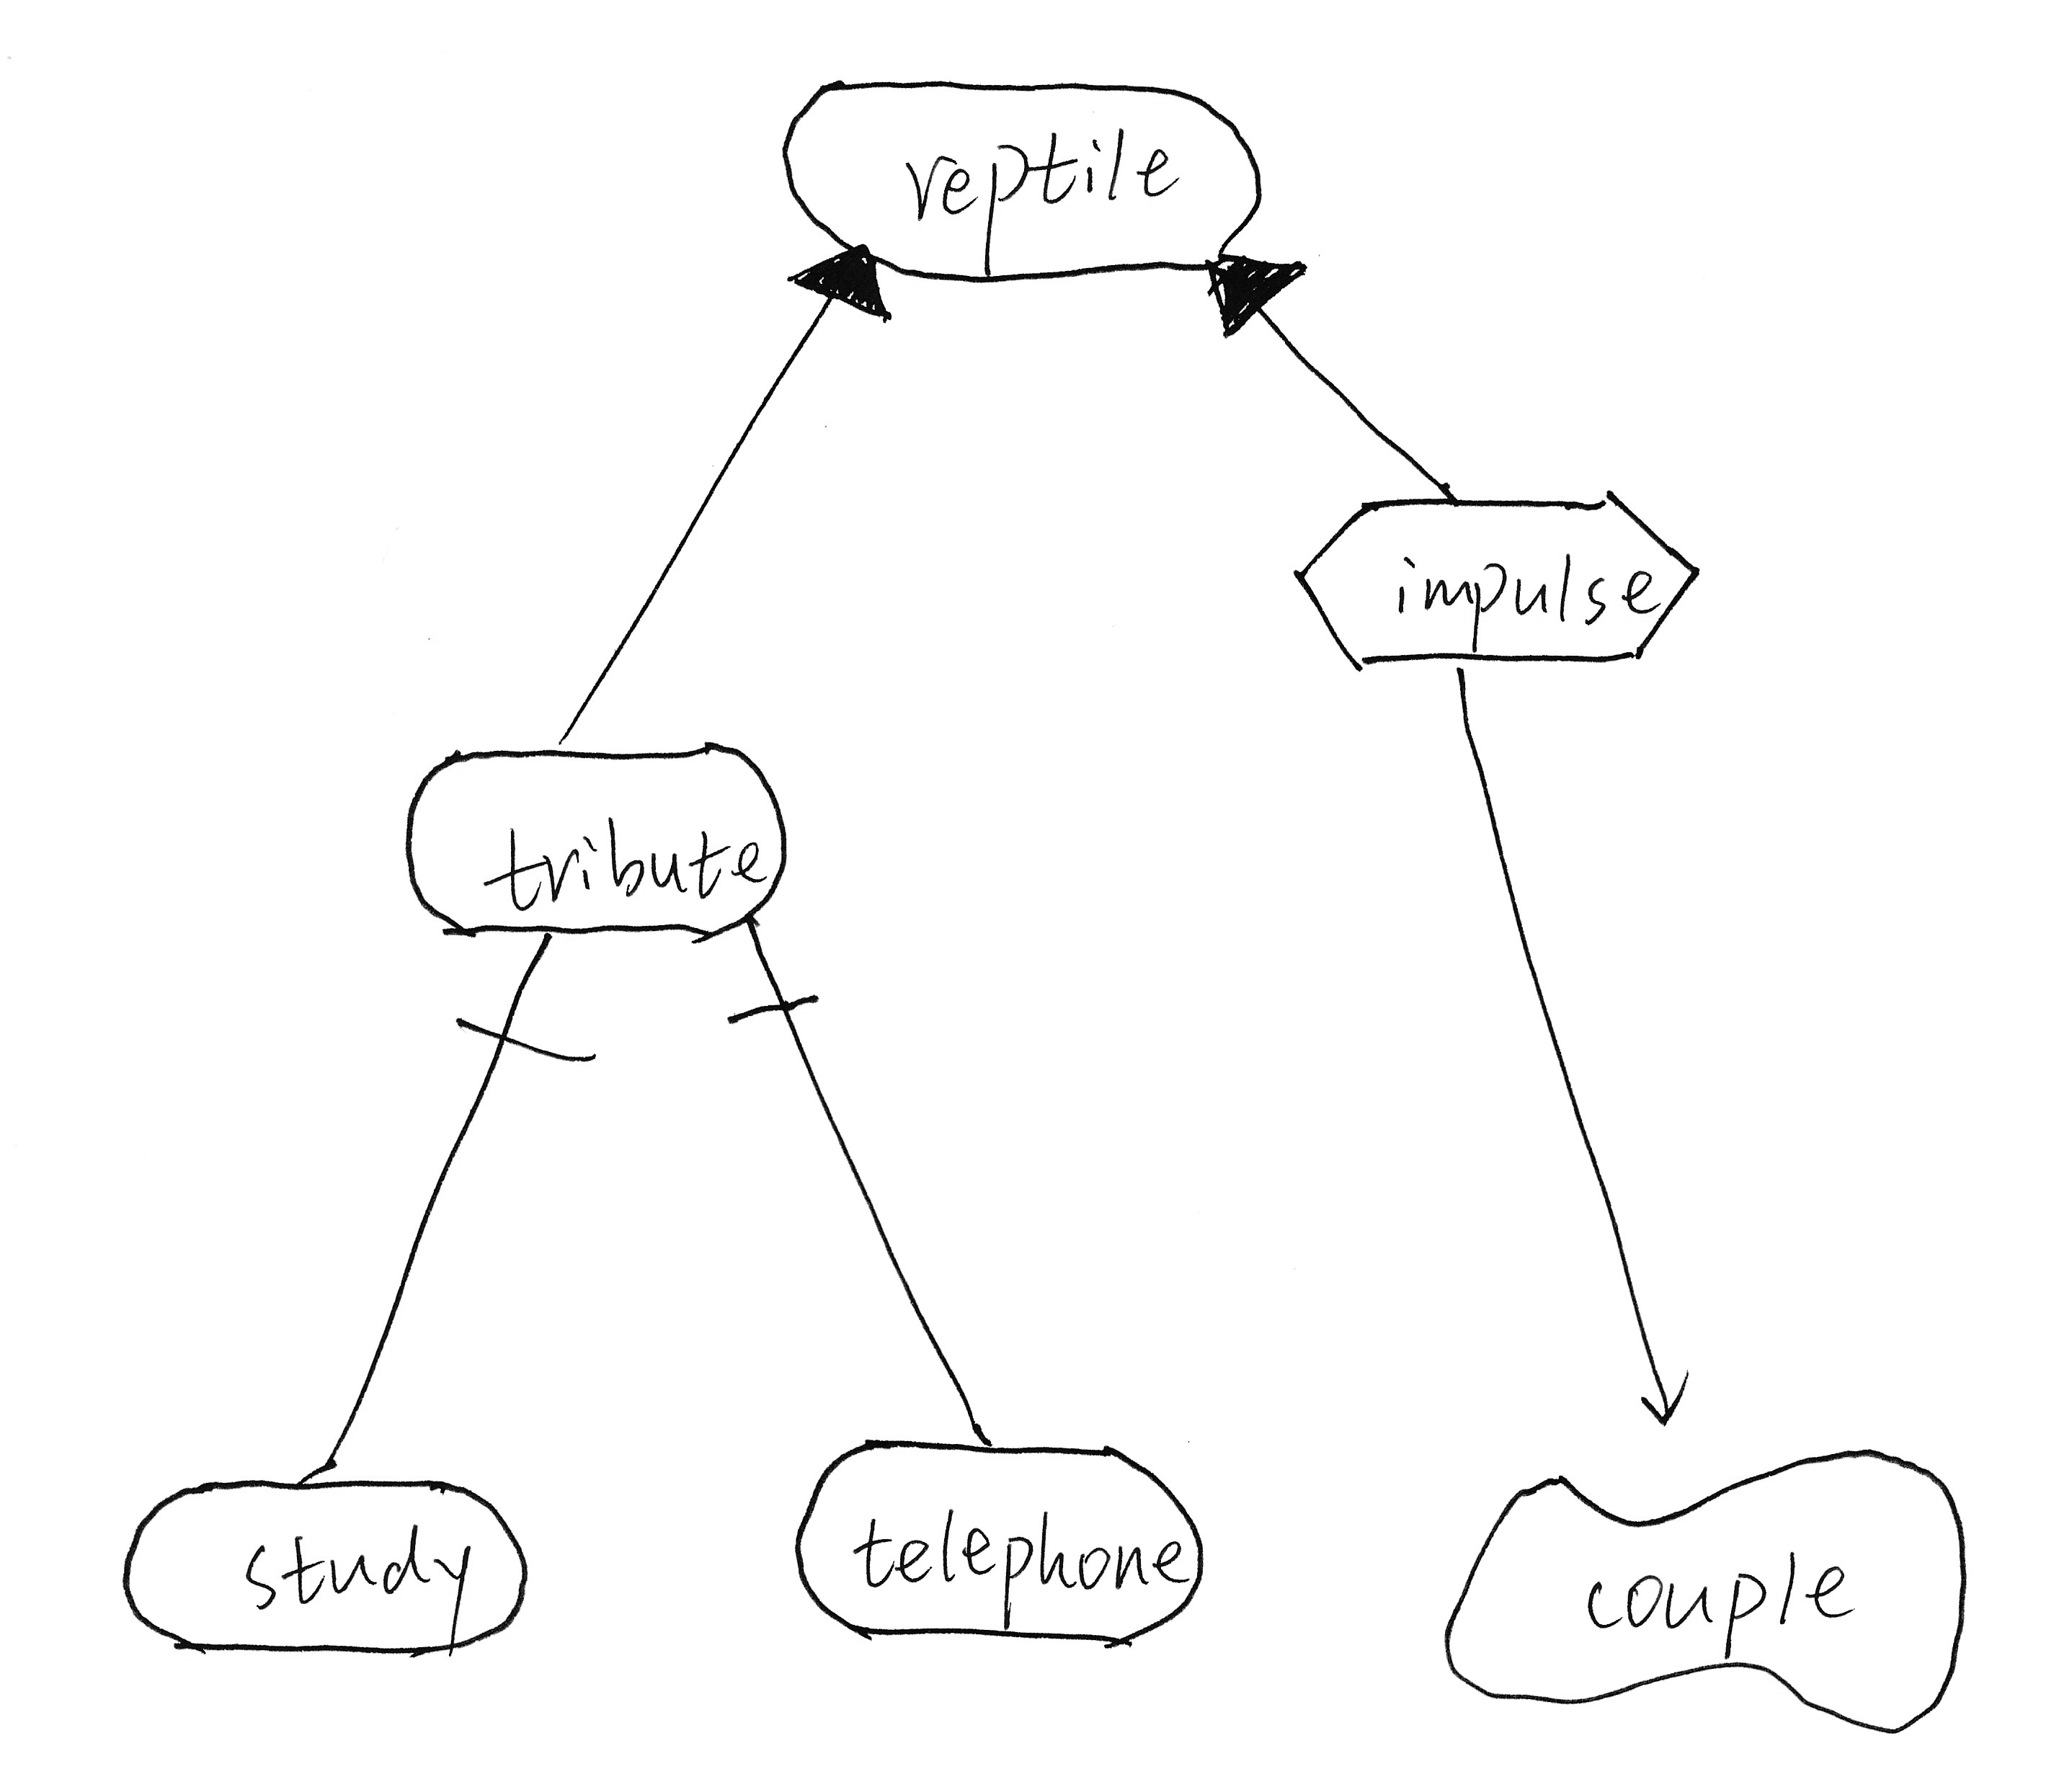and: (437, 969, 631, 1105), (708, 959, 847, 1071)
arrow: (1617, 1361, 1716, 1431)
goal: (777, 48, 1279, 298), (777, 1417, 1223, 1662), (384, 717, 819, 952), (100, 1457, 544, 1671)
or: (1191, 238, 1323, 356), (779, 233, 900, 338)
quality: (1422, 1431, 1982, 1754)
task: (1272, 476, 1721, 694)
